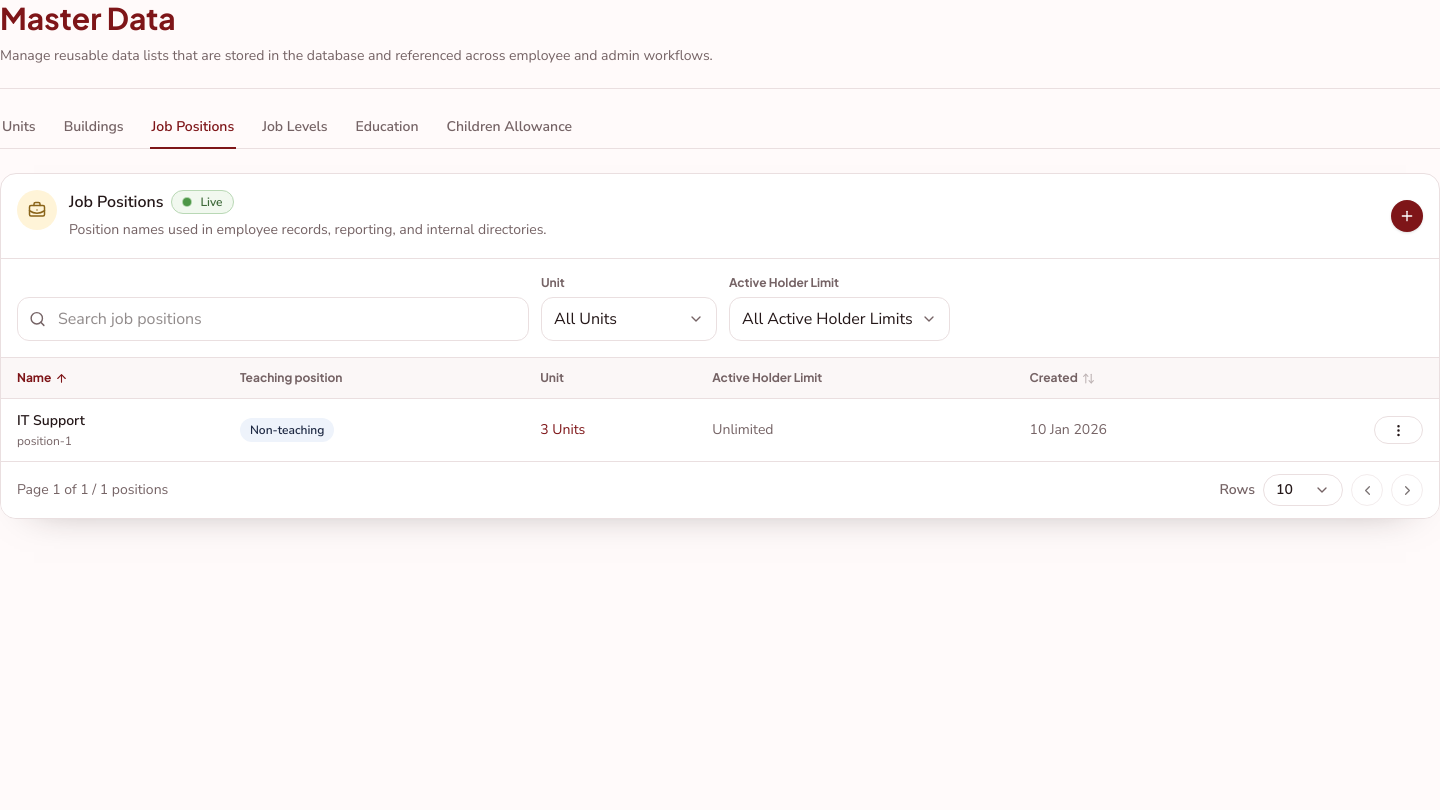
Test: MasterData › keeps multi-unit table rows compact and opens the complete unit list
Click the button "3 Units".
click(563, 430)  # box [540,420,585,440]
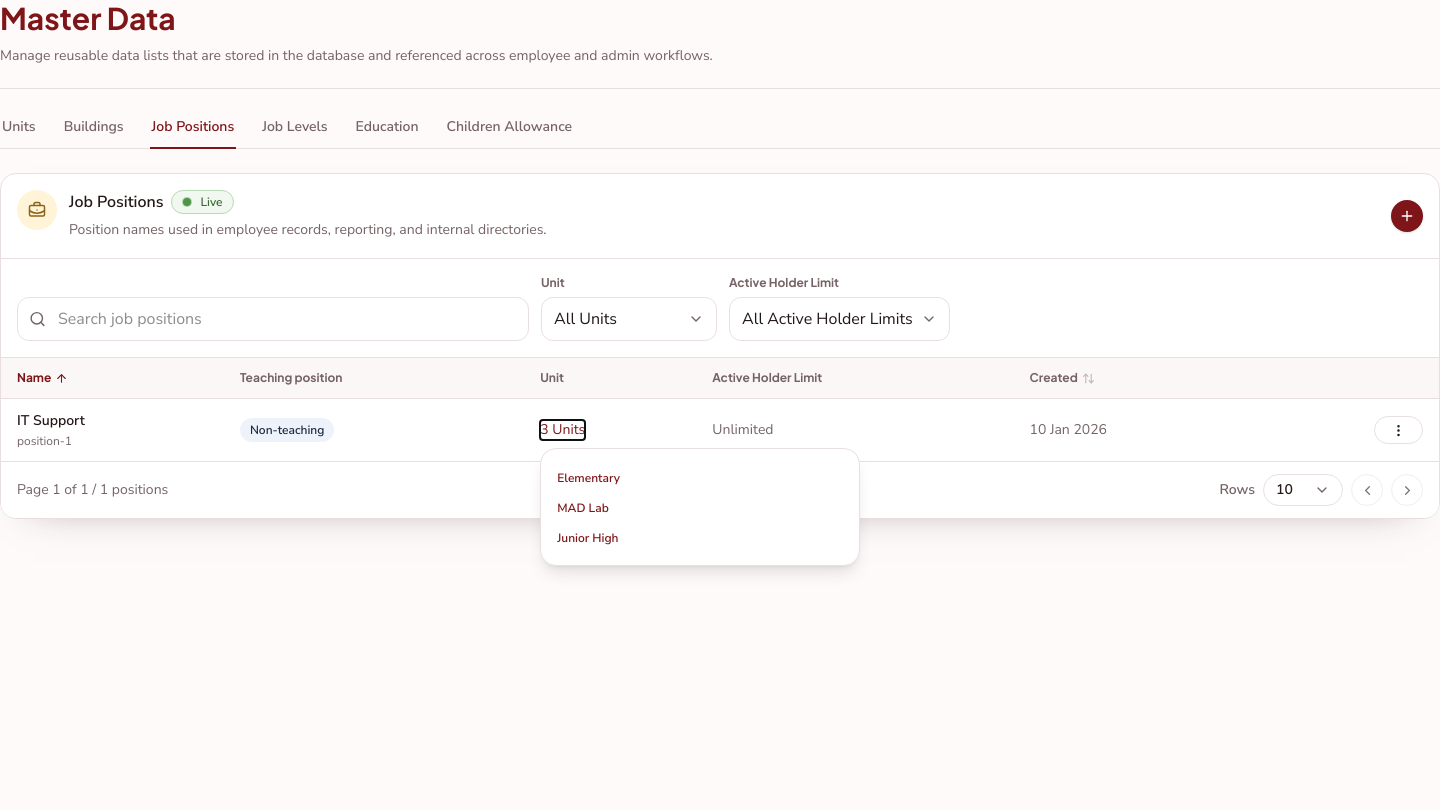
Expected: the dialog named "Units for IT Support" shows "Elementary", [557,470,620,486]
Expected: the dialog named "Units for IT Support" shows "MAD Lab", [557,500,609,516]
Expected: the dialog named "Units for IT Support" shows "Junior High", [557,530,619,546]
